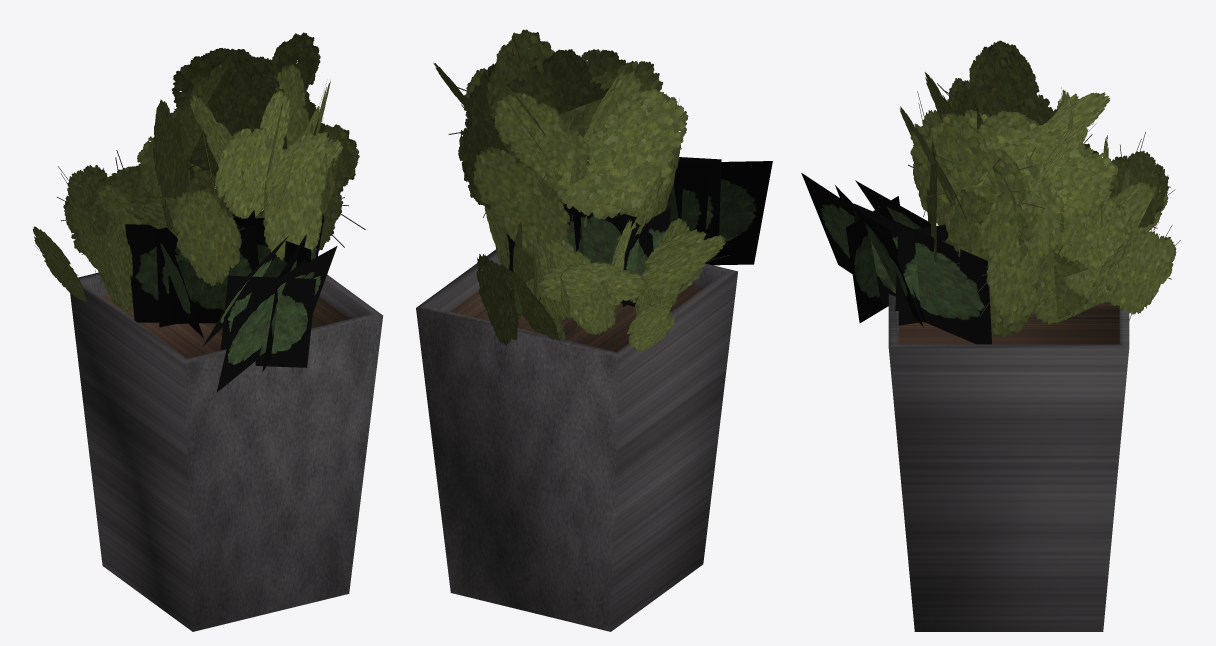
File: SM_Morin_Fioriera_LOD1.fbx
3 views of the same model, side by side, from view 1: azimuth 30°, elevation 25°; view 2: azimuth 150°, elevation 25°; view 3: azimuth 270°, elevation 25° (orthographic). The views are drawn at different scales.
Visible parts, largest first — view 1: SM_Morin_Fioriera_LOD1; view 2: SM_Morin_Fioriera_LOD1; view 3: SM_Morin_Fioriera_LOD1.
Part boxes in pixels (left/top/right/bottom): SM_Morin_Fioriera_LOD1: left=32, top=32, right=383, bottom=631; SM_Morin_Fioriera_LOD1: left=416, top=29, right=772, bottom=631; SM_Morin_Fioriera_LOD1: left=801, top=40, right=1180, bottom=631.
Bounding box in the file's own units: 116 × 123 × 178.
Materials: 3 (3 with a texture image).
